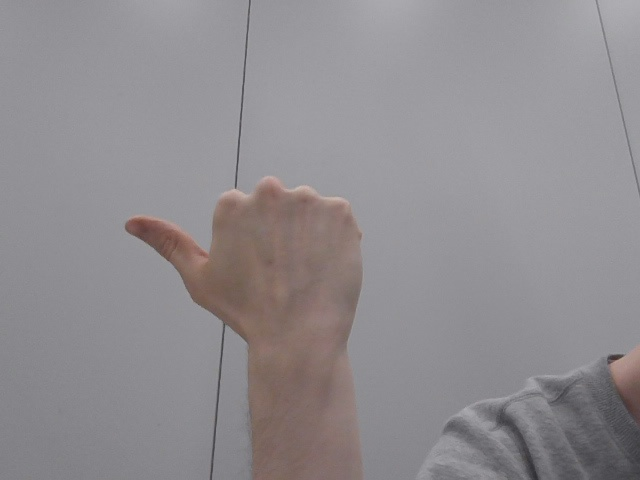right: (107, 162, 399, 382)
